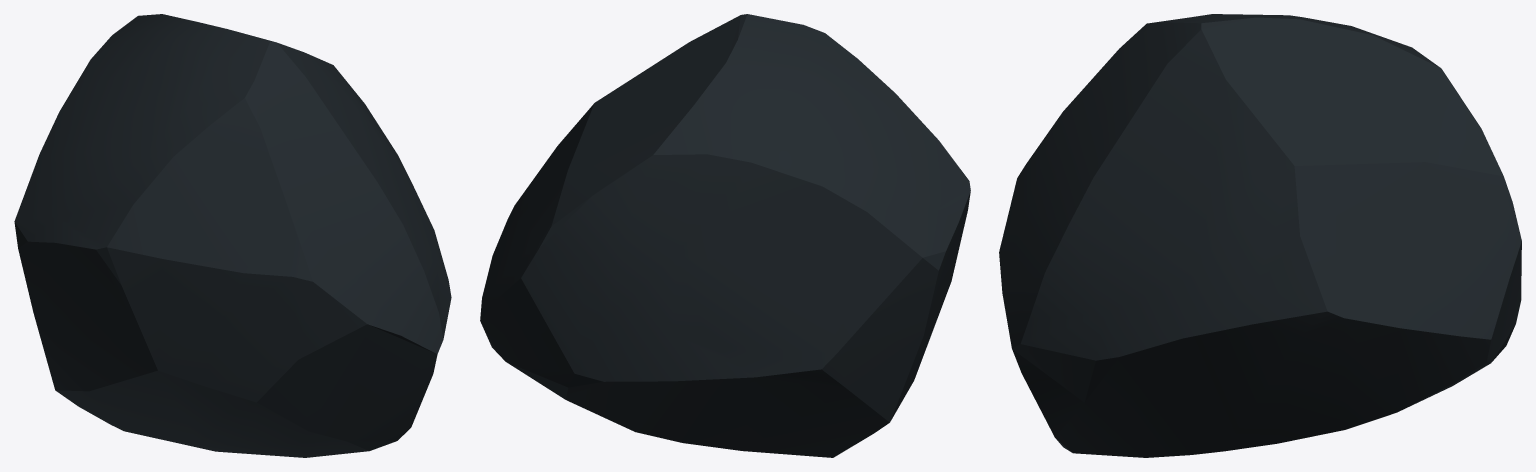
File: Asteroid_s_10.FBX
The picture shows the model from 3 angles, left to right: view 1: azimuth 30°, elevation 25°; view 2: azimuth 150°, elevation 25°; view 3: azimuth 270°, elevation 25°; orthographic projection. The views are drawn at different scales.
Parts seen in each view (by area): view 1: Asteroid_s_10; view 2: Asteroid_s_10; view 3: Asteroid_s_10.
Part boxes in pixels (<box>): Asteroid_s_10: <box>14,14,451,457</box>; Asteroid_s_10: <box>480,14,970,457</box>; Asteroid_s_10: <box>999,14,1521,457</box>.
Bounding box in the file's own units: 141 × 134 × 153.
